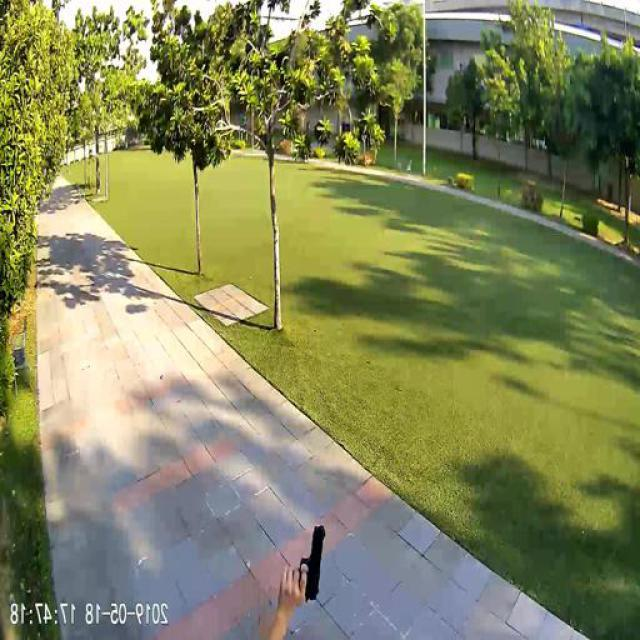Gun: (299, 520, 329, 604)
